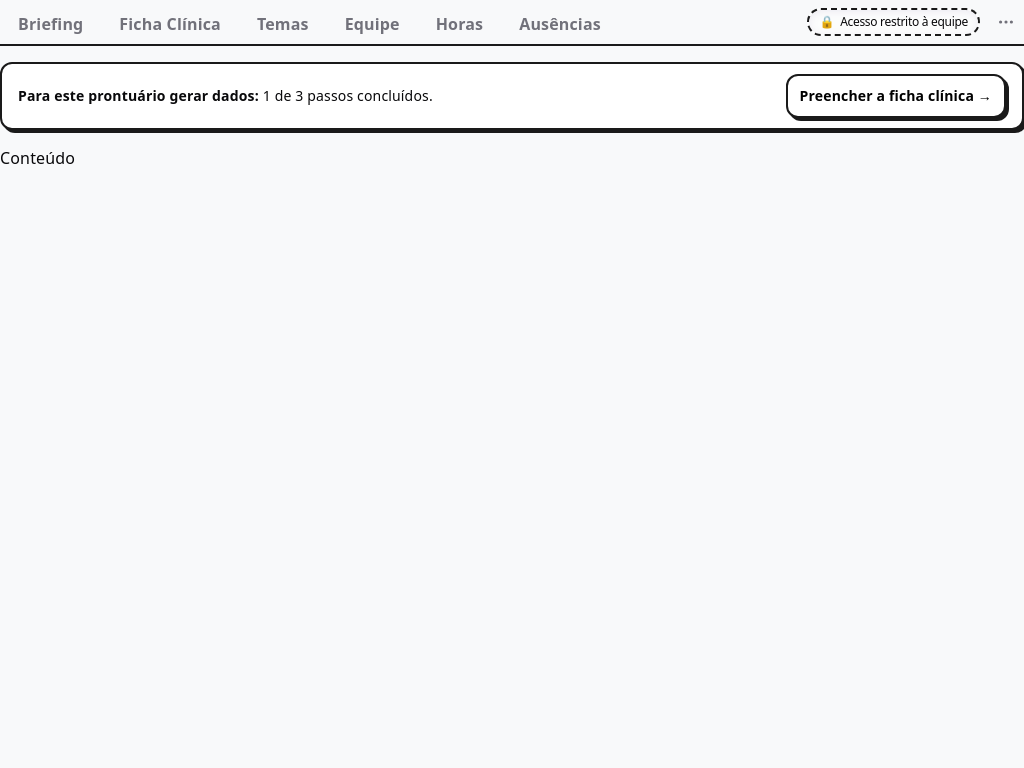
Test: PacienteLayout - ciclo de vida do prontuário (D65) › selecionar uma ação do menu abre o diálogo correspondente
Click the button named "Ações do prontuário" at (1006, 22), box [988, 4, 1023, 40]
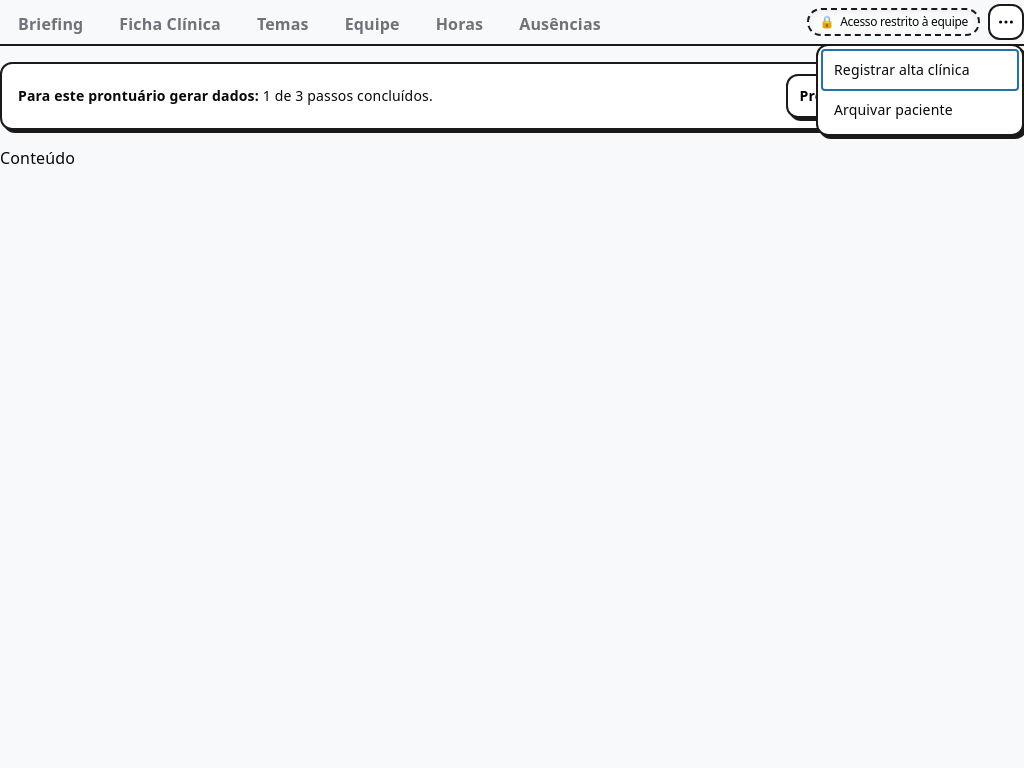
Expected: the menu is shown, [816, 44, 1023, 136]
Click the menu item "Registrar alta clínica" at (920, 70), box [822, 50, 1018, 90]
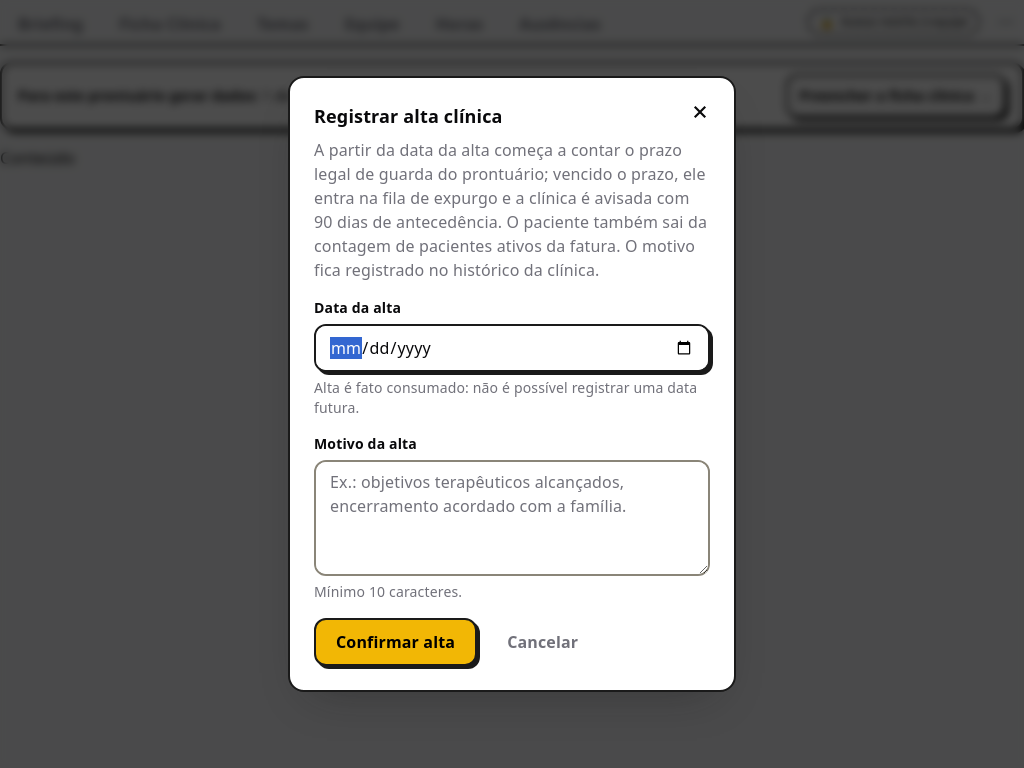
Expected: the dialog "Registrar alta clínica" is shown, [288, 76, 736, 692]
Expected: the menu item "Arquivar paciente" is gone
